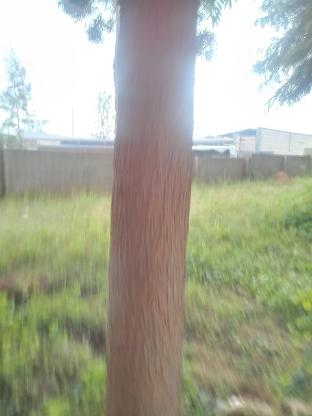tree: (97, 0, 205, 416)
